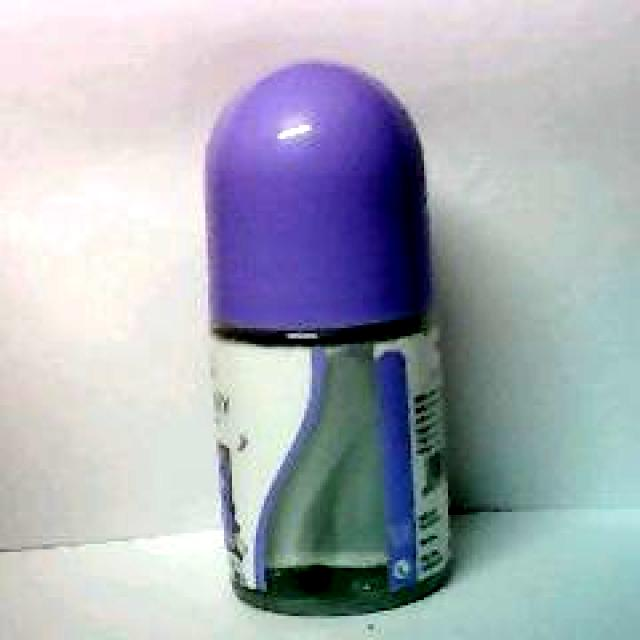yardley_rollon: (203, 59, 453, 619)
